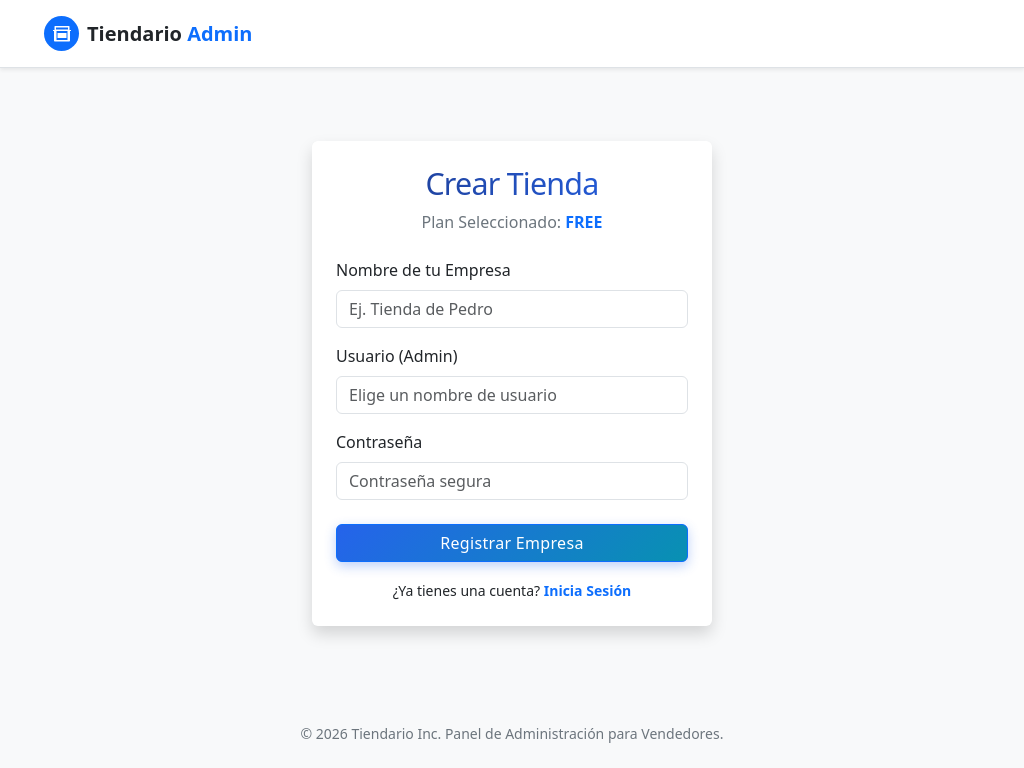
Test: RegisterPage › should show success message on successful registration
The image size is (1024, 768).
Type "Mi Tienda" into the field labelled "Nombre de tu Empresa" at (512, 309), box [336,290,688,328]
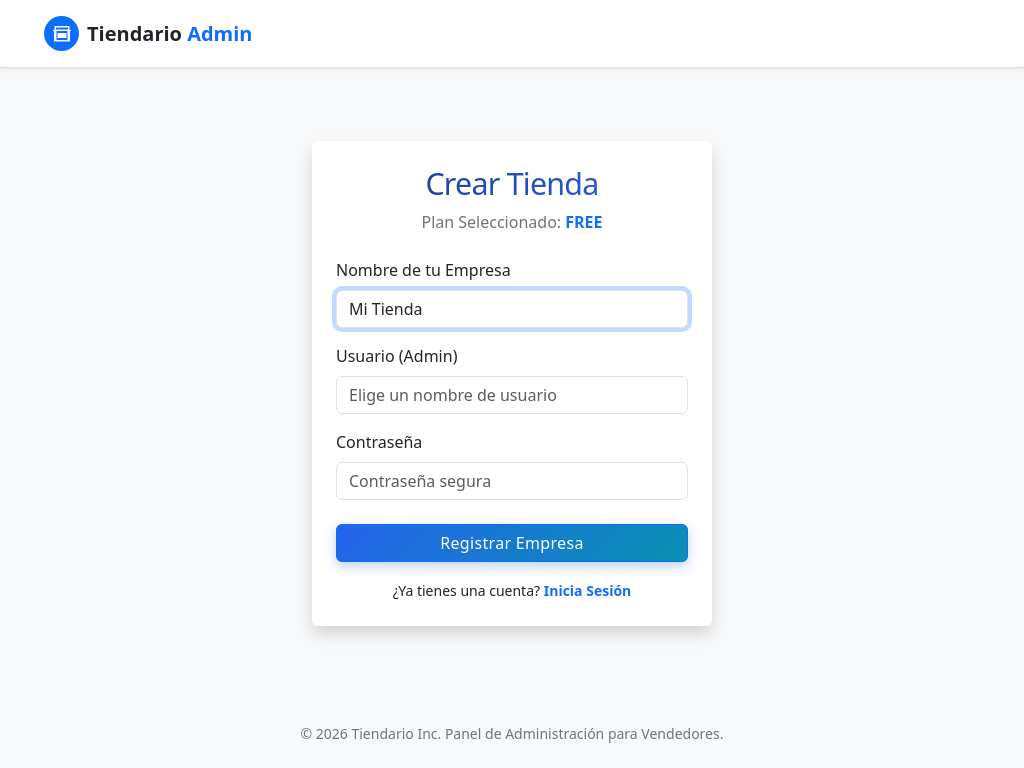
Type "miusuario" into the field labelled "Usuario (Admin)" at (512, 395), box [336,376,688,414]
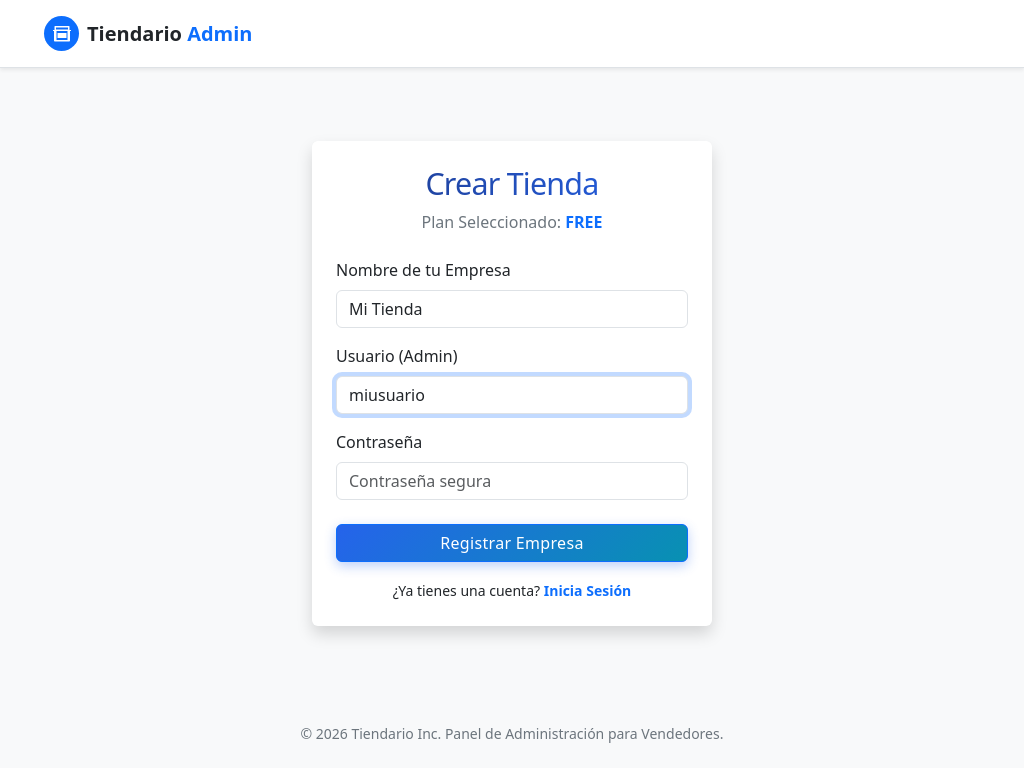
Type "password123" into the password field labelled "Contraseña" at (512, 481), box [336,462,688,500]
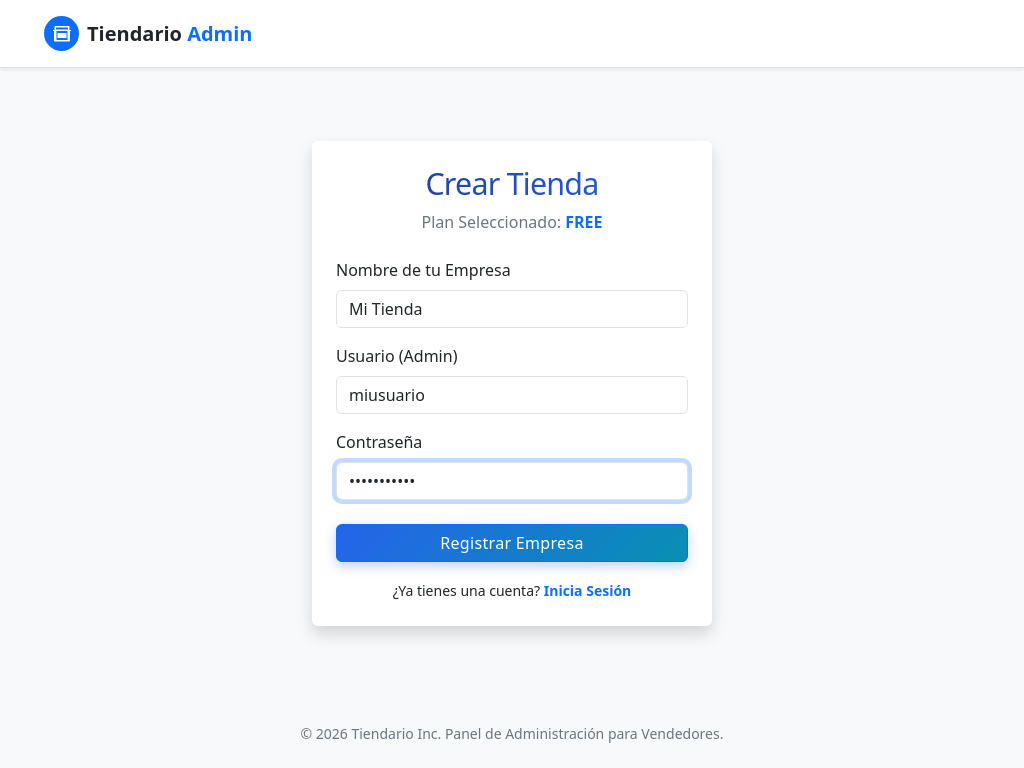
Click the button "Registrar Empresa" at (512, 543), box [336,524,688,562]
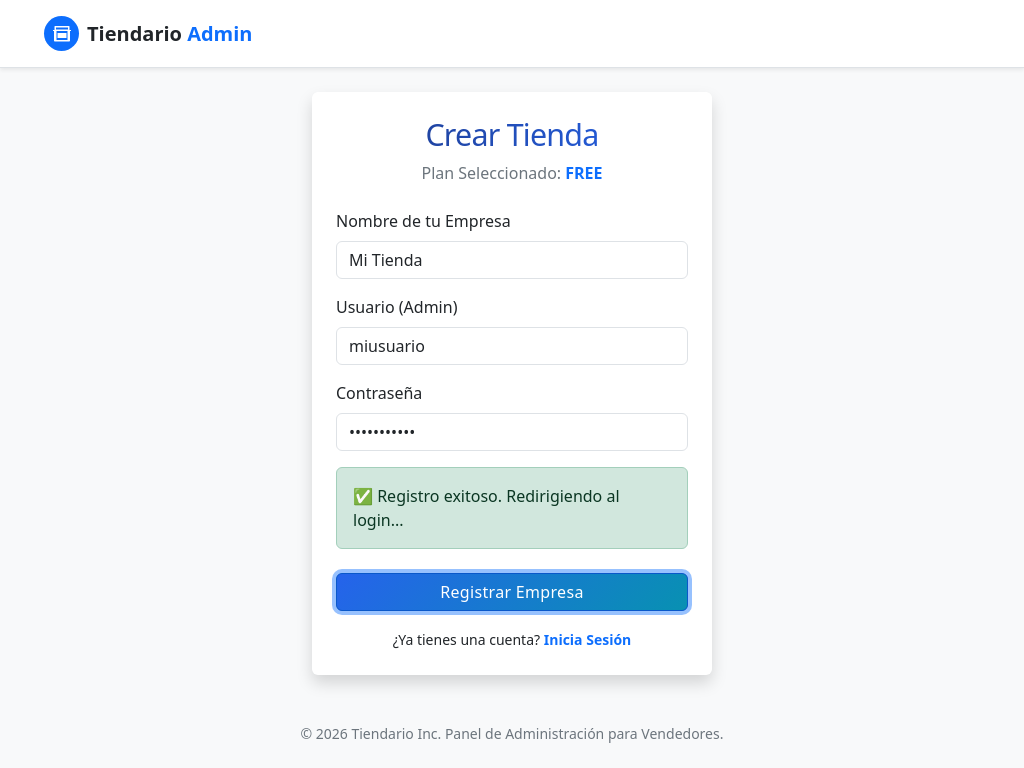
Now the text "✅ Registro exitoso. Redirigiendo al login..." is shown, box [336,467,688,549]
